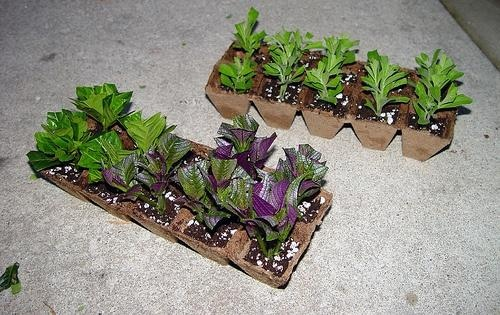pottedplant: (26, 80, 334, 290), (205, 6, 473, 163)
